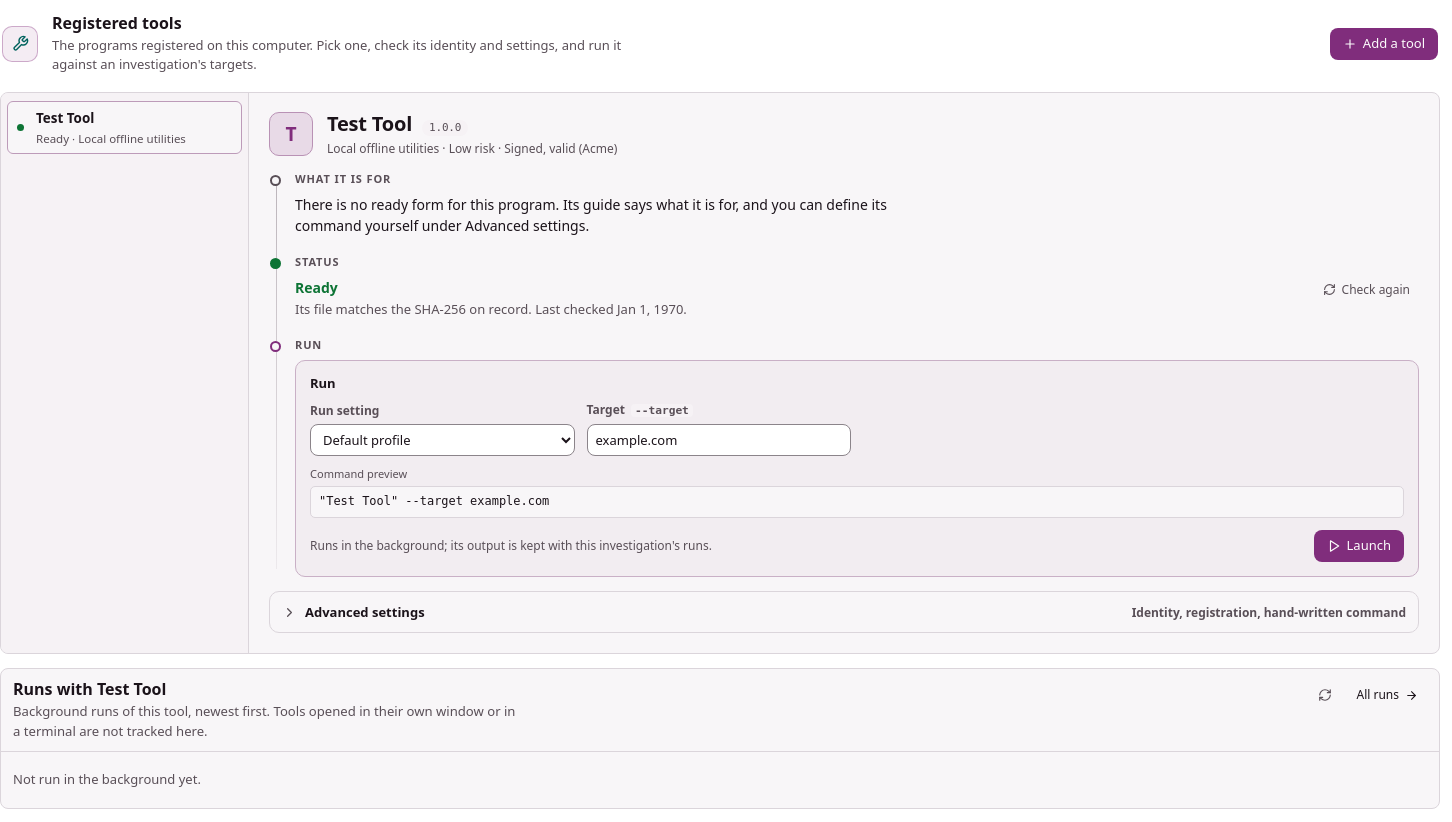
Scenario: ToolLabPanel run card › fills a setting's arguments in on the card and shows the exact command
The image size is (1452, 822).
Replace the text in the field labelled "Target--target" with "10.0.0.5" at (719, 440), box [586,424,851,456]
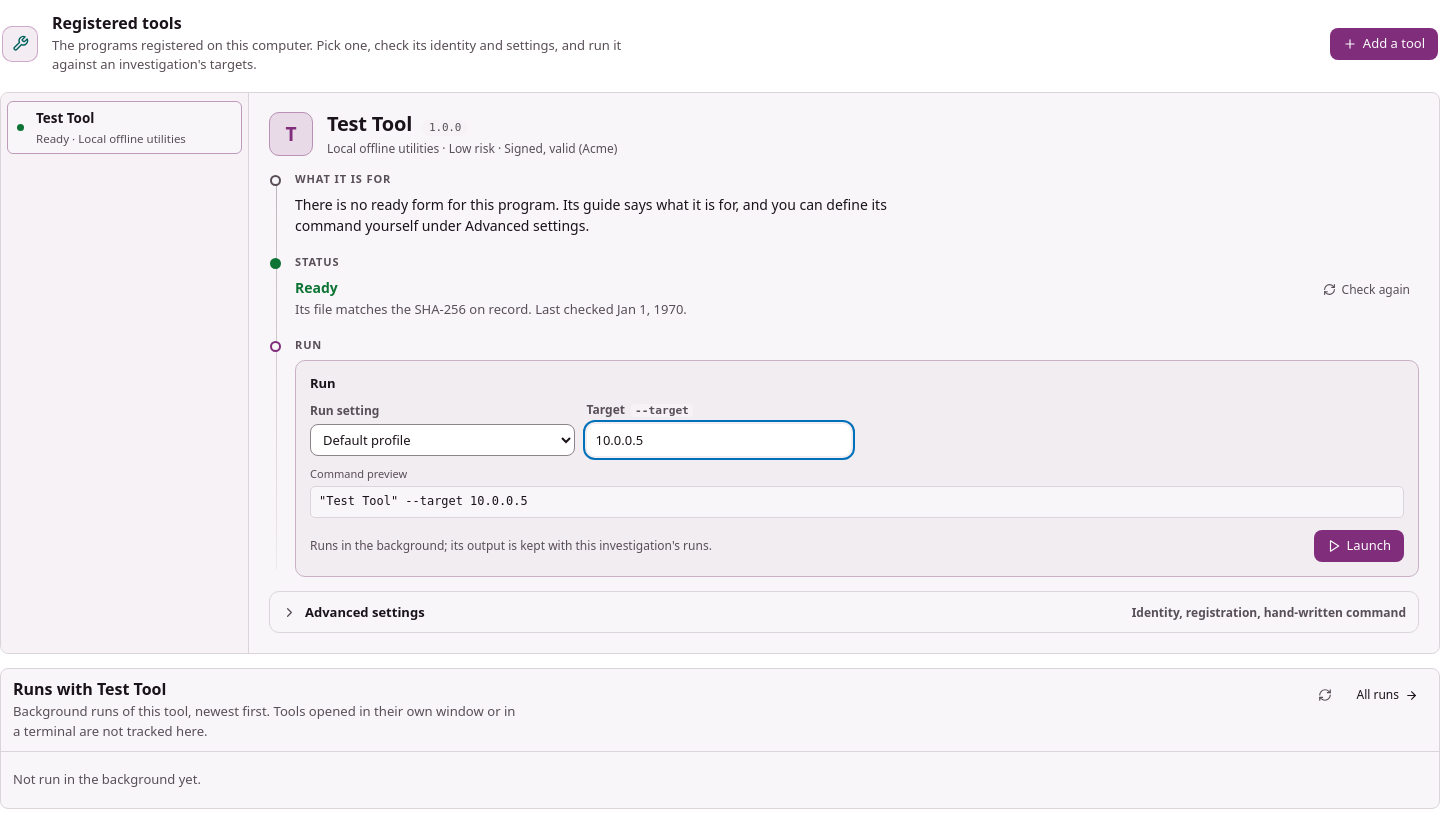
Expected: the text "Runs in the background; its output is kept with this investigation's runs." is shown, [310,537,712,555]
Expected: the text "\"Test Tool\" --target 10.0.0.5" is shown, [310,486,1404,518]
